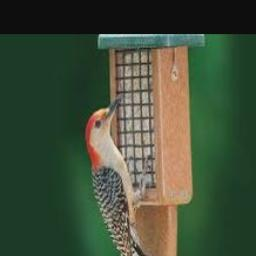Woodpecker: (86, 93, 163, 256)
